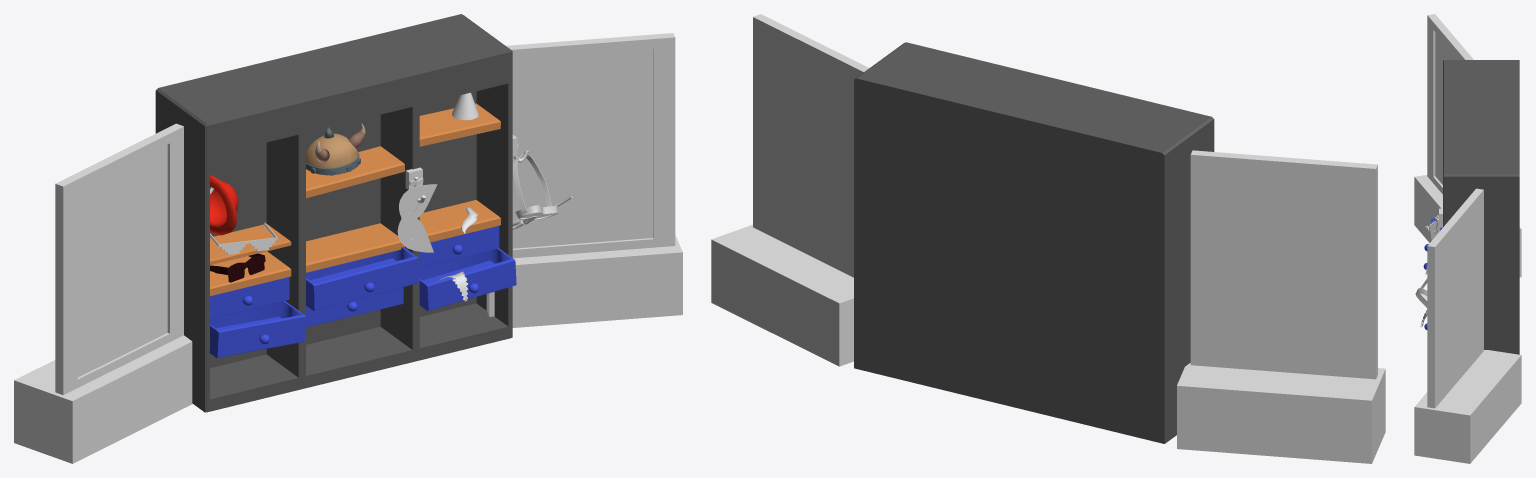
File: back_wardrobe_mirrors.fbx
The picture shows the model from 3 angles, left to right: view 1: azimuth 30°, elevation 25°; view 2: azimuth 150°, elevation 25°; view 3: azimuth 270°, elevation 25°; orthographic projection. The views are drawn at different scales.
Parts seen in each view (by area): view 1: Cube.023, Cube.001, Cube.010, Cube.012, Cube.019, Cube.014, Cube.011, head.002, Cube.015, Cube.021, Cube.017, Cube.020 (+7 smaller); view 2: Cube.001, Cube.023; view 3: Cube.023, Cube.001, Plane.019, Cube.060, Plane.007.
Boxes of the visible parts, bbox=[...] form: Cube.023: bbox=[14, 33, 682, 463]; Cube.001: bbox=[155, 14, 512, 412]; Cube.010: bbox=[306, 247, 418, 310]; Cube.012: bbox=[209, 301, 305, 357]; Cube.019: bbox=[419, 248, 516, 311]; Cube.014: bbox=[306, 223, 404, 272]; Cube.011: bbox=[306, 146, 404, 198]; head.002: bbox=[306, 123, 365, 175]; Cube.015: bbox=[419, 103, 500, 146]; Cube.021: bbox=[419, 200, 500, 242]; Cube.017: bbox=[210, 277, 289, 318]; Cube.020: bbox=[419, 226, 499, 267]; Cube.001: bbox=[854, 42, 1214, 443]; Cube.023: bbox=[711, 14, 1385, 463]; Cube.023: bbox=[1414, 14, 1521, 463]; Cube.001: bbox=[1443, 60, 1519, 354]; Plane.019: bbox=[1415, 278, 1427, 307]; Cube.060: bbox=[1425, 208, 1442, 233]; Plane.007: bbox=[1425, 221, 1440, 274].
Bounding box in the file's own units: 1833 × 772 × 335.
